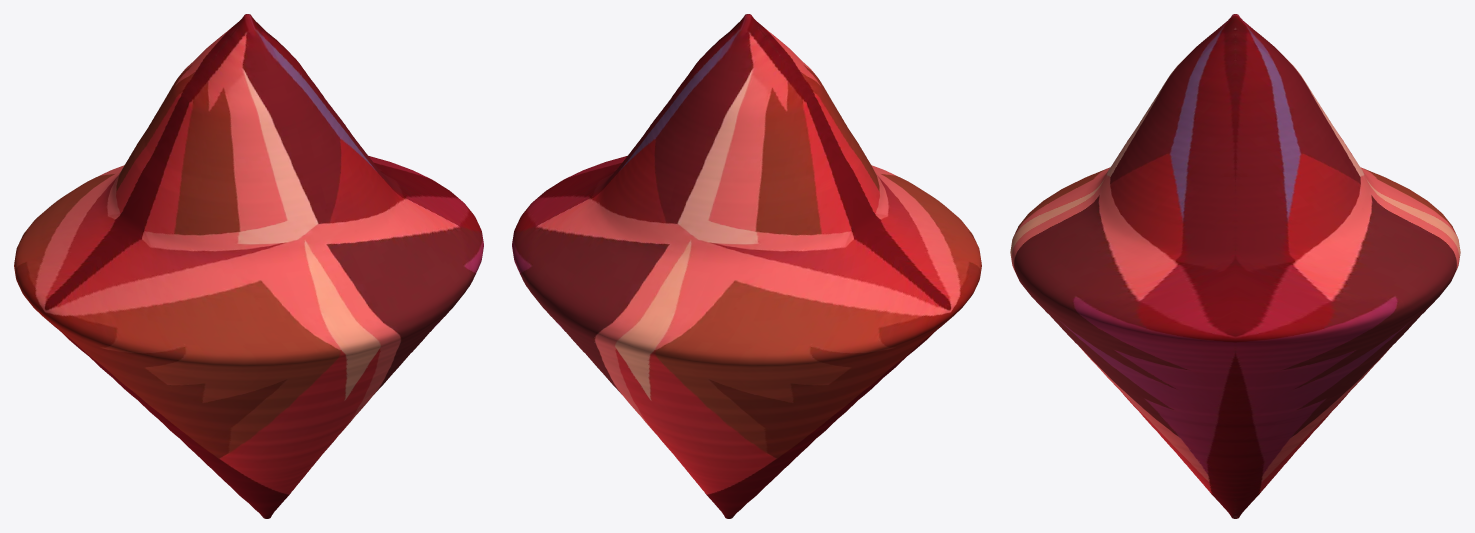
File: red_gem.glb
3 views of the same model, side by side, from view 1: azimuth 30°, elevation 25°; view 2: azimuth 150°, elevation 25°; view 3: azimuth 270°, elevation 25° (orthographic). The views are drawn at different scales.
Parts seen in each view (by area): view 1: red_gem; view 2: red_gem; view 3: red_gem.
Boxes of the visible parts, x1,y1,x2,y2 form: red_gem: [14, 14, 483, 518]; red_gem: [512, 14, 981, 518]; red_gem: [1010, 14, 1460, 518].
Bounding box in the file's own units: 0.984 × 1.17 × 0.9643.
1 material, 1 textured.
